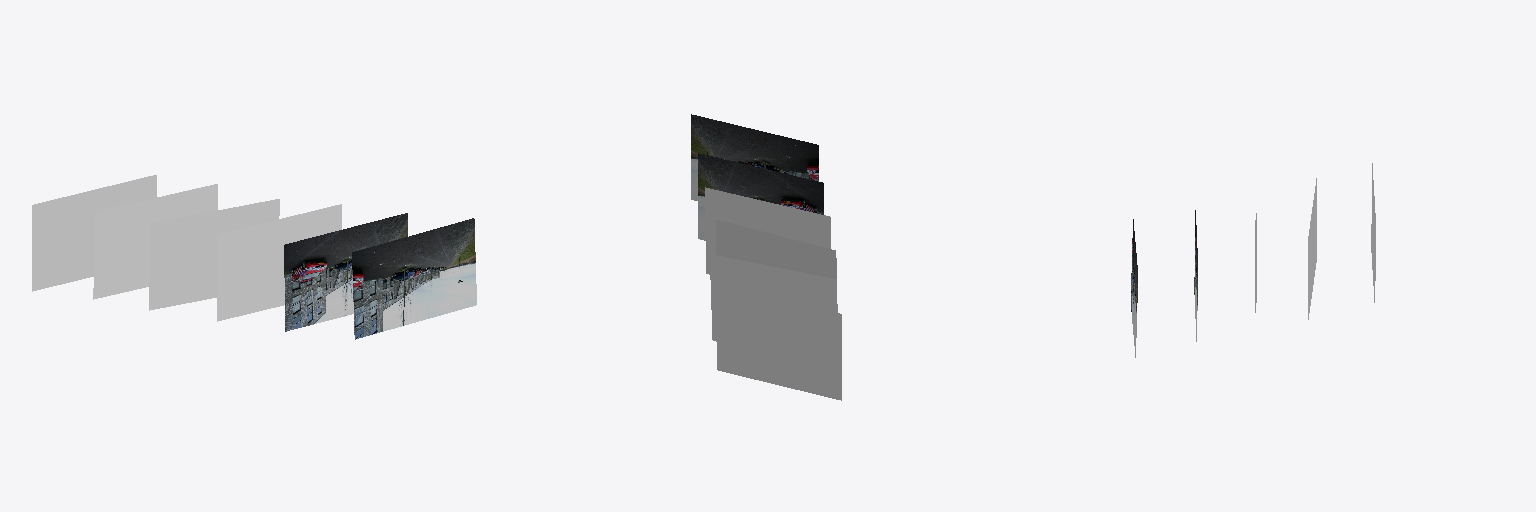
3 renders of one model, left to right at view 1: azimuth 30°, elevation 25°; view 2: azimuth 150°, elevation 25°; view 3: azimuth 270°, elevation 25°, orthographic.
Size of the model in its own units: 5.18 by 1.79 by 4.49.
Materials: 7 (3 with a texture image).